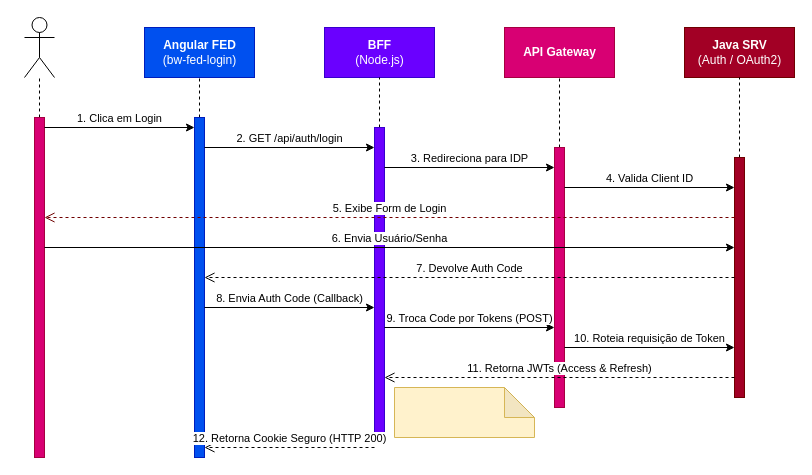
The diagram is 812 pixels wide and 475 high, and some of its shapes have lost their labels. Each missing label, with the centre of its shape:
"BFF salva JWTs na sessão interna e gera Cookie HttpOnly" belongs at [464,412].
"Usuário" belongs at [39,47].
